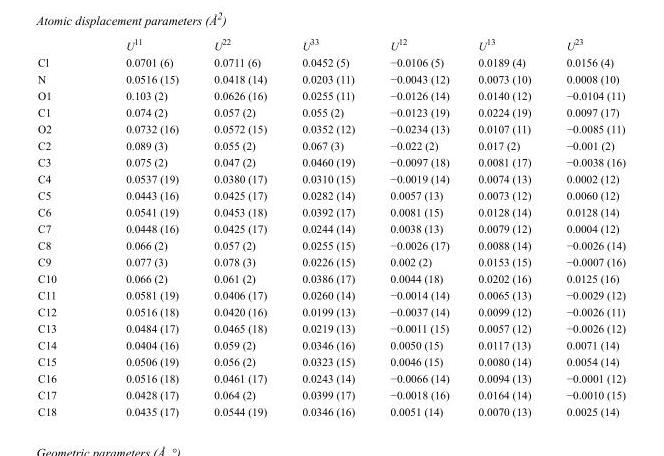table: (37, 36, 624, 417)
table column: (90, 36, 195, 417), (371, 36, 463, 417), (195, 36, 283, 417), (283, 36, 371, 417), (463, 36, 548, 417), (548, 36, 624, 417), (37, 36, 90, 417)
table column header: (37, 36, 624, 53)
table row: (37, 36, 624, 53), (37, 53, 624, 70), (37, 86, 624, 103), (37, 103, 624, 120), (37, 136, 624, 153), (37, 153, 624, 170), (37, 186, 624, 203), (37, 219, 624, 236), (37, 236, 624, 253), (37, 269, 624, 286), (37, 286, 624, 303), (37, 319, 624, 336), (37, 352, 624, 369), (37, 369, 624, 386), (37, 70, 624, 86), (37, 120, 624, 136), (37, 170, 624, 186), (37, 203, 624, 219), (37, 253, 624, 269), (37, 303, 624, 319), (37, 336, 624, 352), (37, 386, 624, 402), (37, 402, 624, 417)
